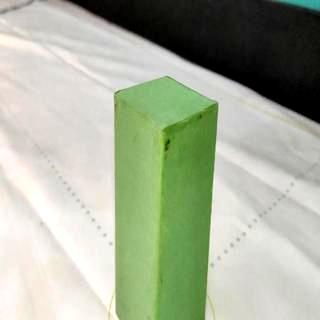greenbox: (114, 74, 220, 320)
